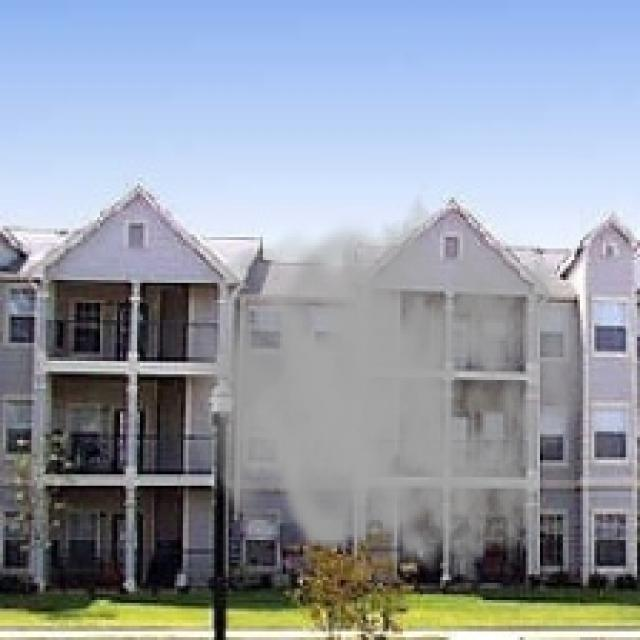smoke: (188, 174, 592, 586)
